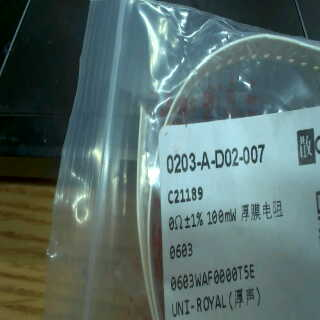0R: (164, 206, 239, 262)
